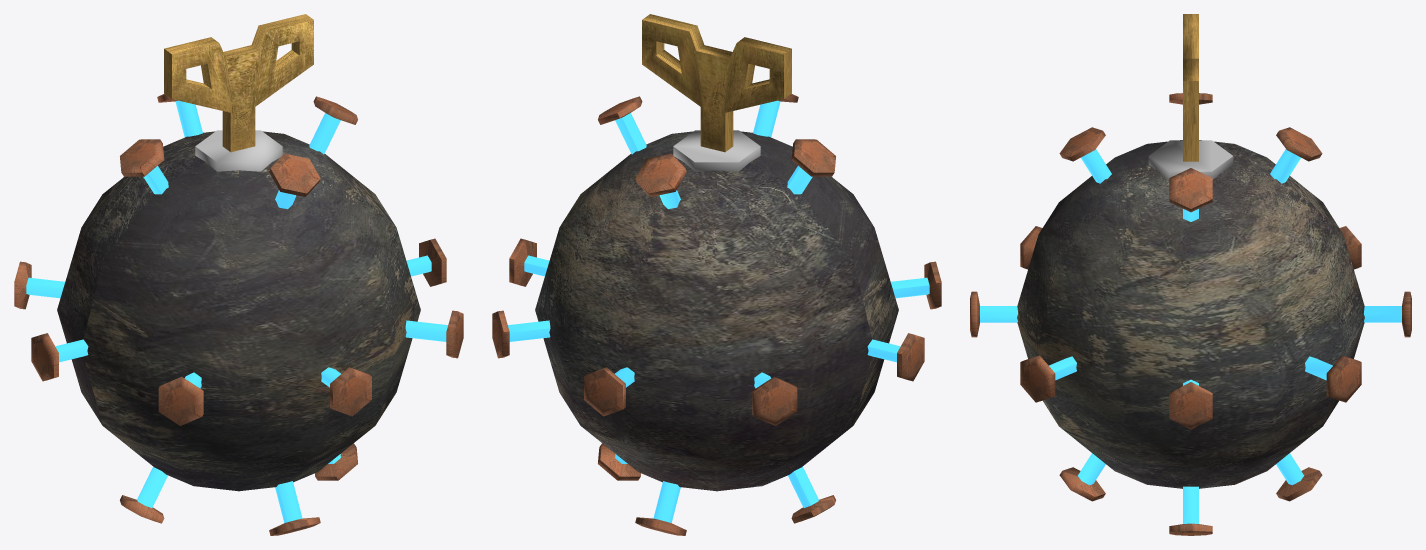
File: Grenade.fbx
3 views of the same model, side by side, from view 1: azimuth 30°, elevation 25°; view 2: azimuth 150°, elevation 25°; view 3: azimuth 270°, elevation 25° (orthographic). The views are drawn at different scales.
Parts seen in each view (by area): view 1: Grenade; view 2: Grenade; view 3: Grenade.
Part boxes in pixels (x1=…): Grenade: x1=14, y1=14, x2=463, y2=535; Grenade: x1=492, y1=14, x2=941, y2=535; Grenade: x1=970, y1=14, x2=1411, y2=535.
Size of the model in its own units: 251 by 282 by 251.
